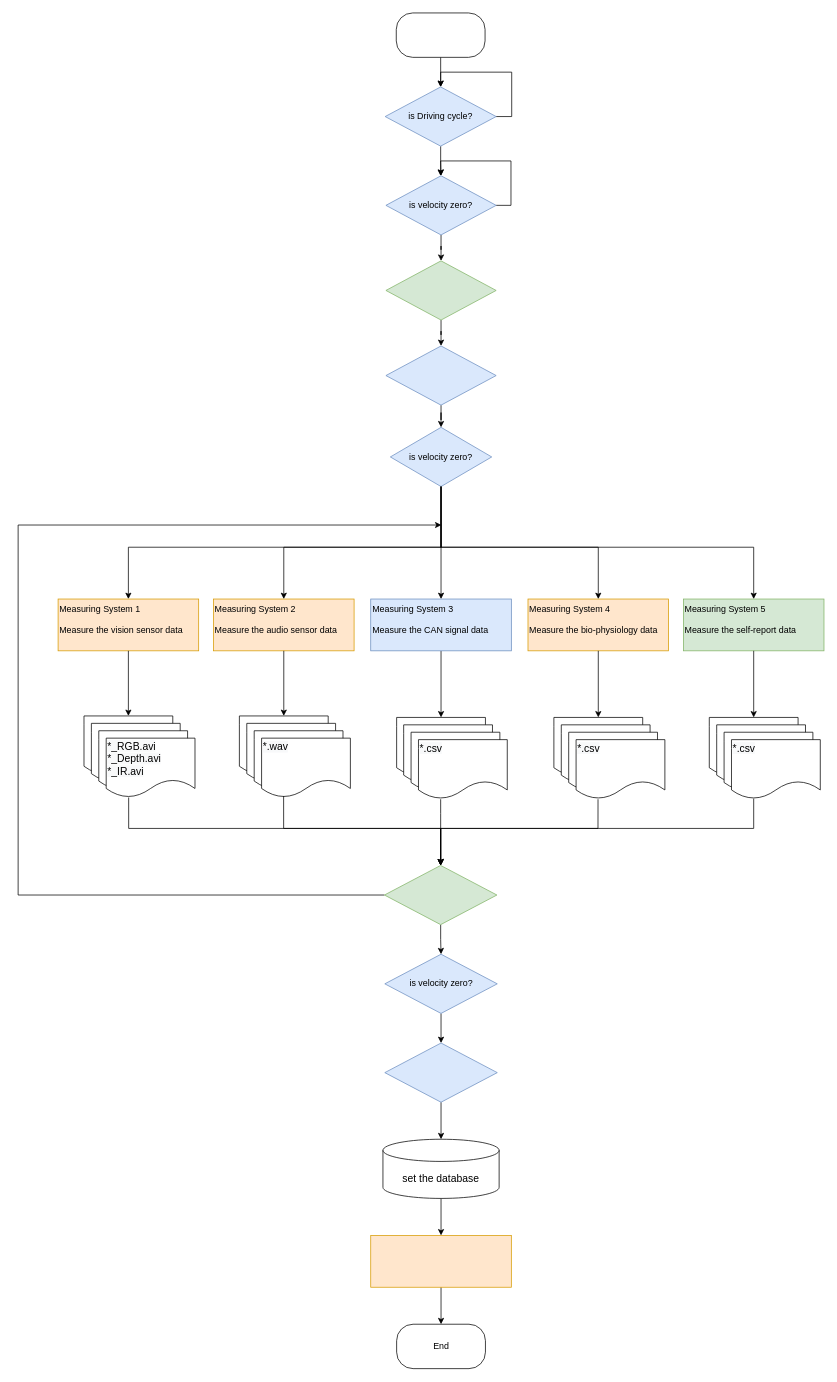
The diagram is 837 pixels wide and 1382 high, and some of its shapes have lost their labels. The centre of each missing label's shape, as x and y in pixels:
"is driver selected? [DRIVER_ID]" goes at (x=440, y=290).
"is driving cycle end?" goes at (x=440, y=895).
"is end ODD set? [ODD_END]" goes at (x=440, y=1072).
"is start ODD set? [ODD_START]" goes at (x=440, y=375).
"save the database at ./[DRIVER_ID]/[ODD_START]/" goes at (x=440, y=1261).
"Start" goes at (x=440, y=34).
